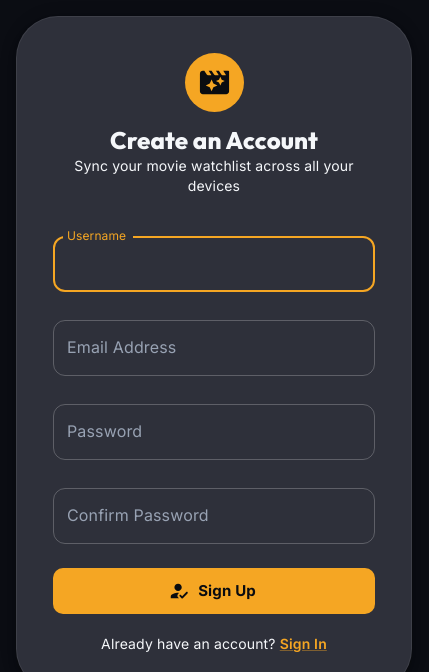
it: Authentication Form Integration Tests › SignupPage › rejects usernames containing illegal characters
Type "user name!#$" into the field labelled "Username" at (214, 264), box top-left (53, 236), bottom-right (375, 292)
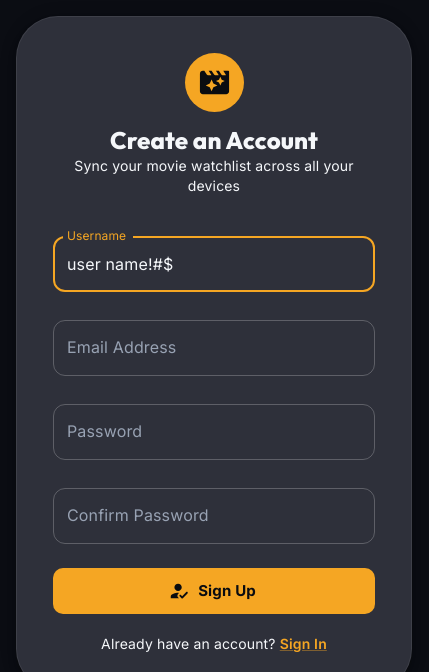
Click the button "Sign Up" at (214, 591), box top-left (53, 568), bottom-right (375, 614)
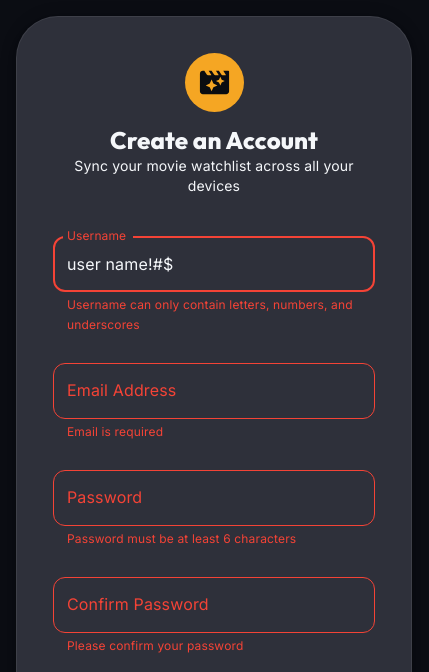
Expected: the text "Username can only contain letters, numbers, and underscores" is shown, top-left (67, 295), bottom-right (361, 335)
